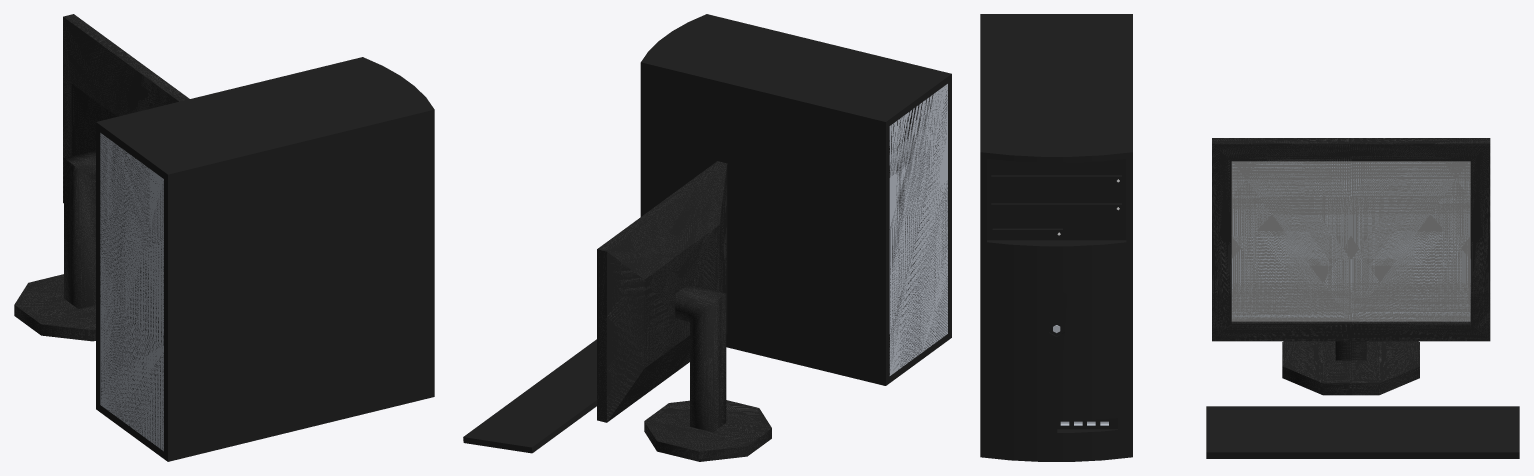
The model's file is computer.dae.
3 renders of one model, left to right at view 1: azimuth 30°, elevation 25°; view 2: azimuth 150°, elevation 25°; view 3: azimuth 270°, elevation 25°, orthographic. The views are drawn at different scales.
Visible parts, largest first — view 1: CPU (×2), Monitor_Half (×2); view 2: CPU (×2), Monitor_Half (×2), Keyboard (×2); view 3: Monitor_Half (×4), CPU (×2), Keyboard (×3), drive (×2).
Boxes of the visible parts, x1,y1,x2,y2 form: CPU (×2): (96, 57, 434, 461); Monitor_Half (×2): (14, 14, 189, 341); CPU (×2): (640, 14, 951, 385); Monitor_Half (×2): (597, 161, 771, 461); Keyboard (×2): (463, 340, 596, 453); Monitor_Half (×4): (1212, 138, 1490, 395); CPU (×2): (980, 14, 1132, 461); Keyboard (×3): (1206, 406, 1519, 458); drive (×2): (991, 161, 1121, 204).
Size of the model in its own units: 19.43 by 30.75 by 19.2.
5 materials, 4 textured.
